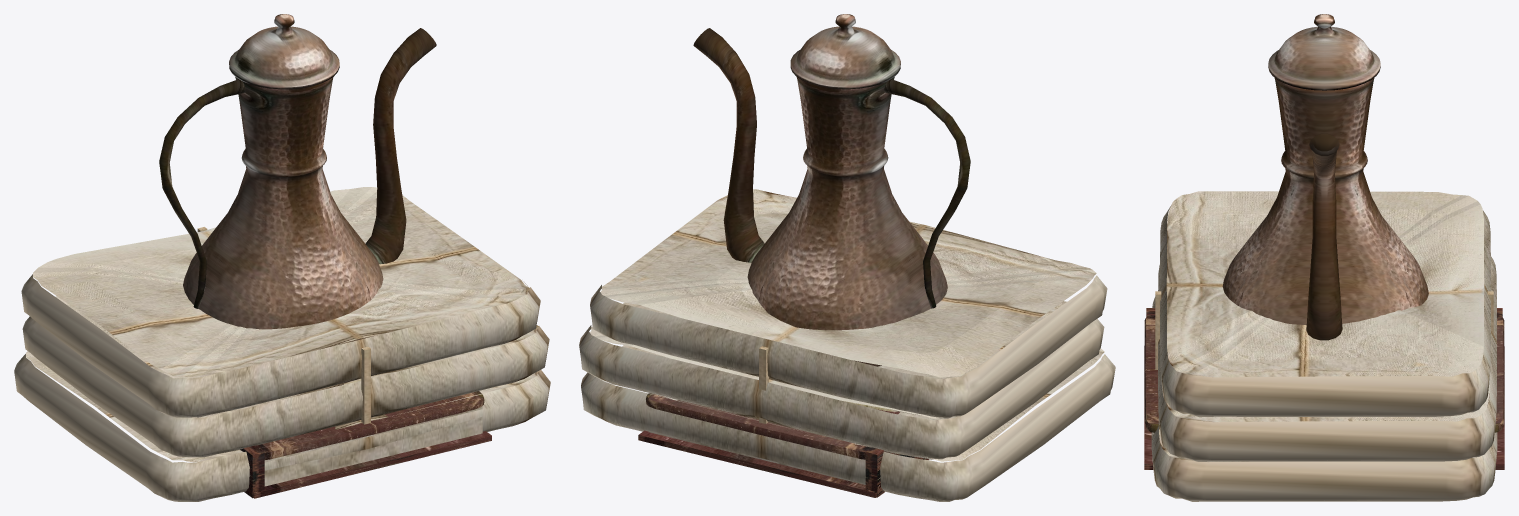
Rendered from emanet.glb.
The picture shows the model from 3 angles, left to right: view 1: azimuth 30°, elevation 25°; view 2: azimuth 150°, elevation 25°; view 3: azimuth 270°, elevation 25°; orthographic projection.
Visible parts, largest first — view 1: kefen, ibrik, defter; view 2: kefen, ibrik, defter; view 3: kefen, ibrik, defter.
Boxes of the visible parts, x1=… form: kefen: x1=14, y1=187, x2=550, y2=501; ibrik: x1=159, y1=14, x2=436, y2=386; defter: x1=240, y1=391, x2=491, y2=498; kefen: x1=579, y1=189, x2=1115, y2=501; ibrik: x1=693, y1=14, x2=970, y2=366; defter: x1=638, y1=393, x2=929, y2=497; kefen: x1=1151, y1=191, x2=1497, y2=501; ibrik: x1=1222, y1=14, x2=1428, y2=340; defter: x1=1144, y1=308, x2=1504, y2=469.
Bounding box in the file's own units: 0.4673 × 0.4356 × 0.36.
Materials: 4 (4 with a texture image).
